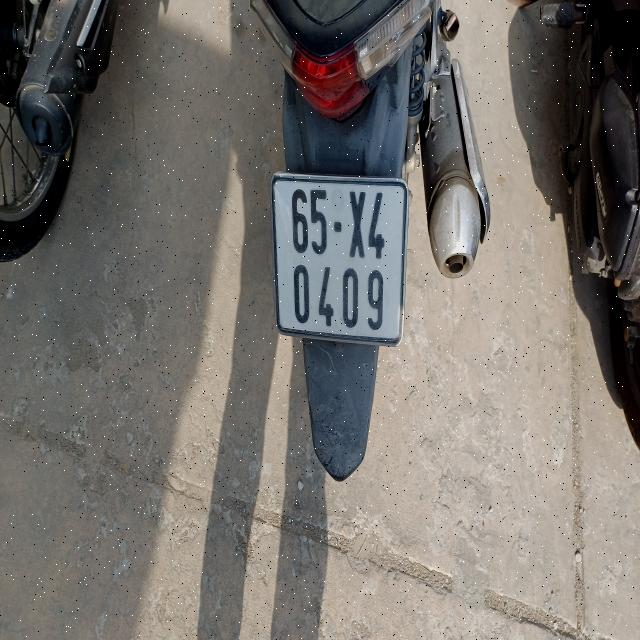0: (289, 263, 311, 326), (342, 267, 358, 328)
4: (368, 189, 386, 262), (318, 266, 335, 329)
5: (310, 189, 328, 257)
6: (289, 186, 309, 253)
9: (366, 266, 385, 332)
X: (348, 190, 368, 260)
